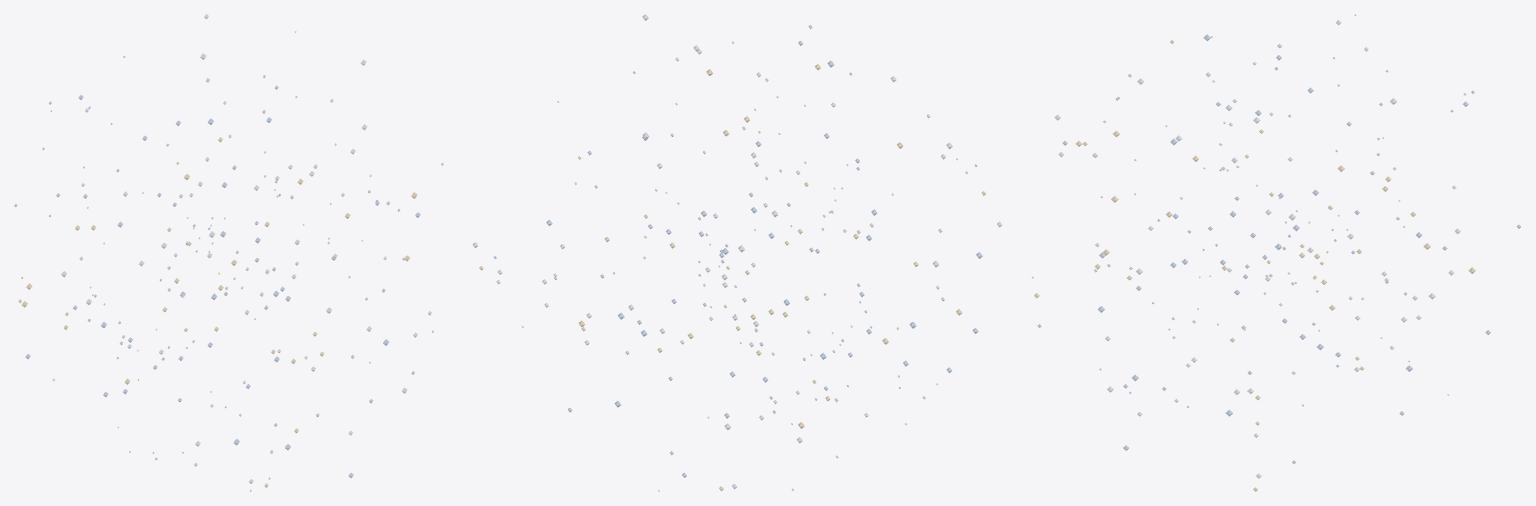
The picture shows the model from 3 angles, left to right: view 1: azimuth 30°, elevation 25°; view 2: azimuth 150°, elevation 25°; view 3: azimuth 270°, elevation 25°; orthographic projection. The views are drawn at different scales.
Size of the model in its own units: 4.79 by 5.08 by 4.88.
